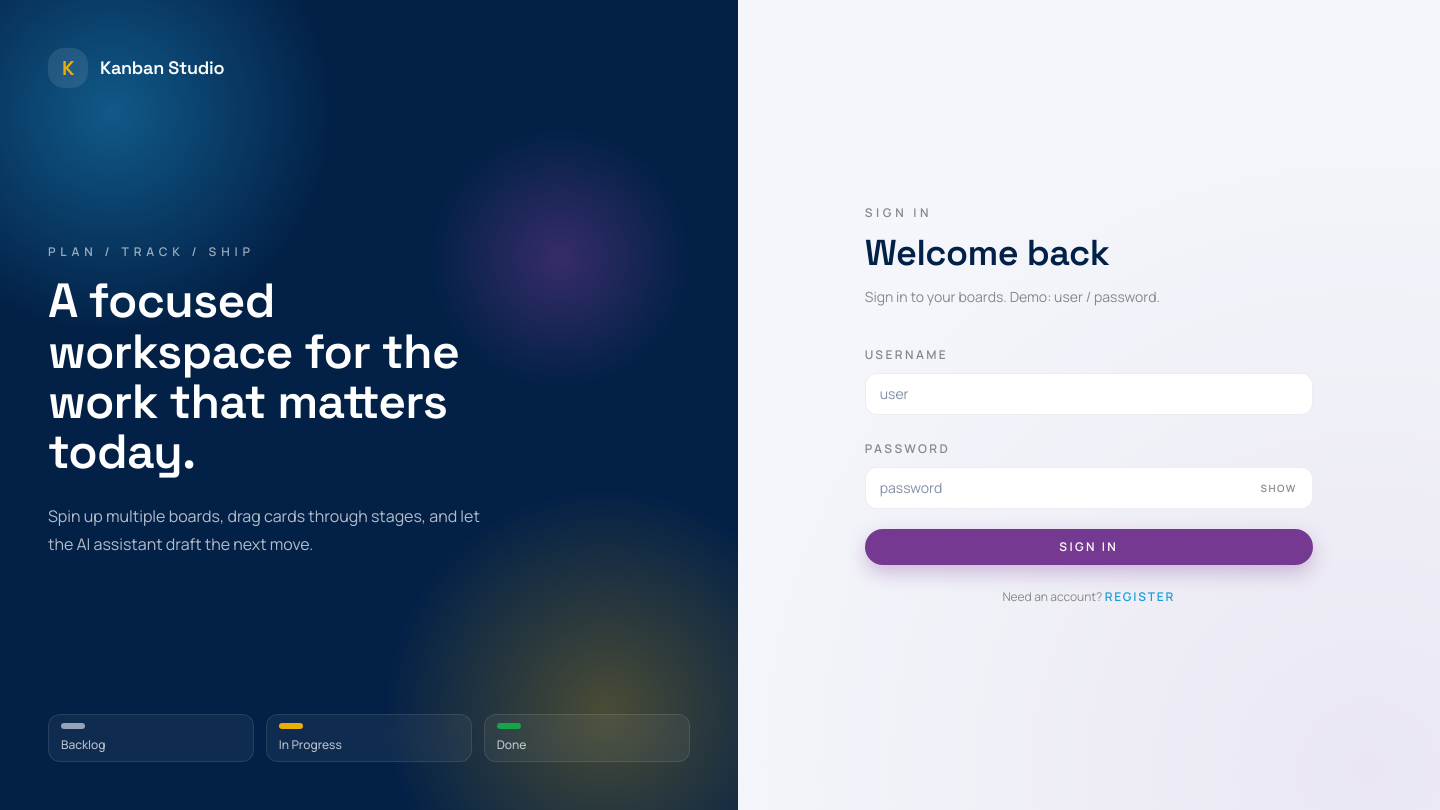
Test: AuthShell › rejects short passwords on register without hitting the network
The width and height of the screenshot is (1440, 810).
Click the button "Register" at (1140, 597), box x1=1105 y1=589 x2=1175 y2=605
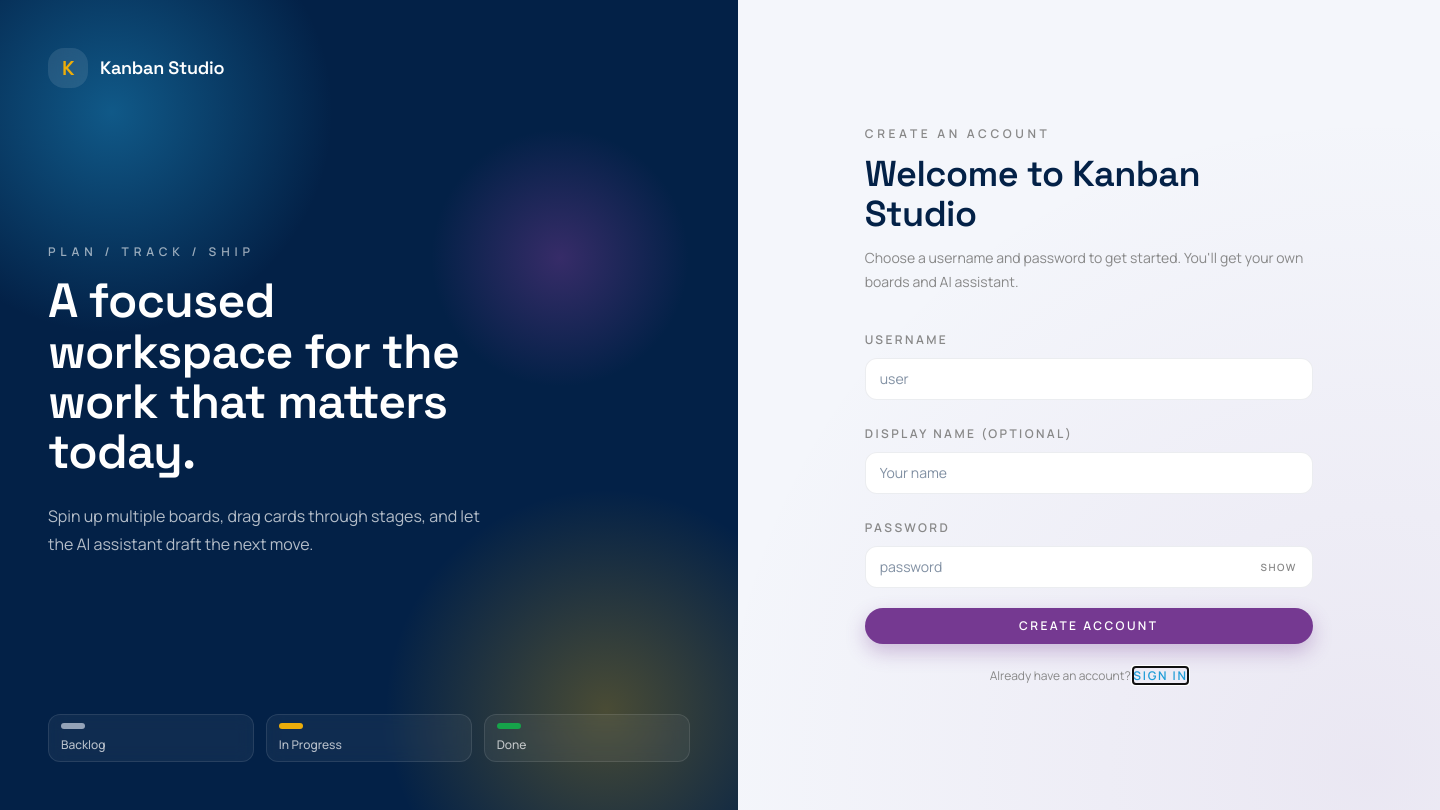
Type "newuser" into the field labelled "Username" at (1089, 379), box x1=865 y1=358 x2=1313 y2=400
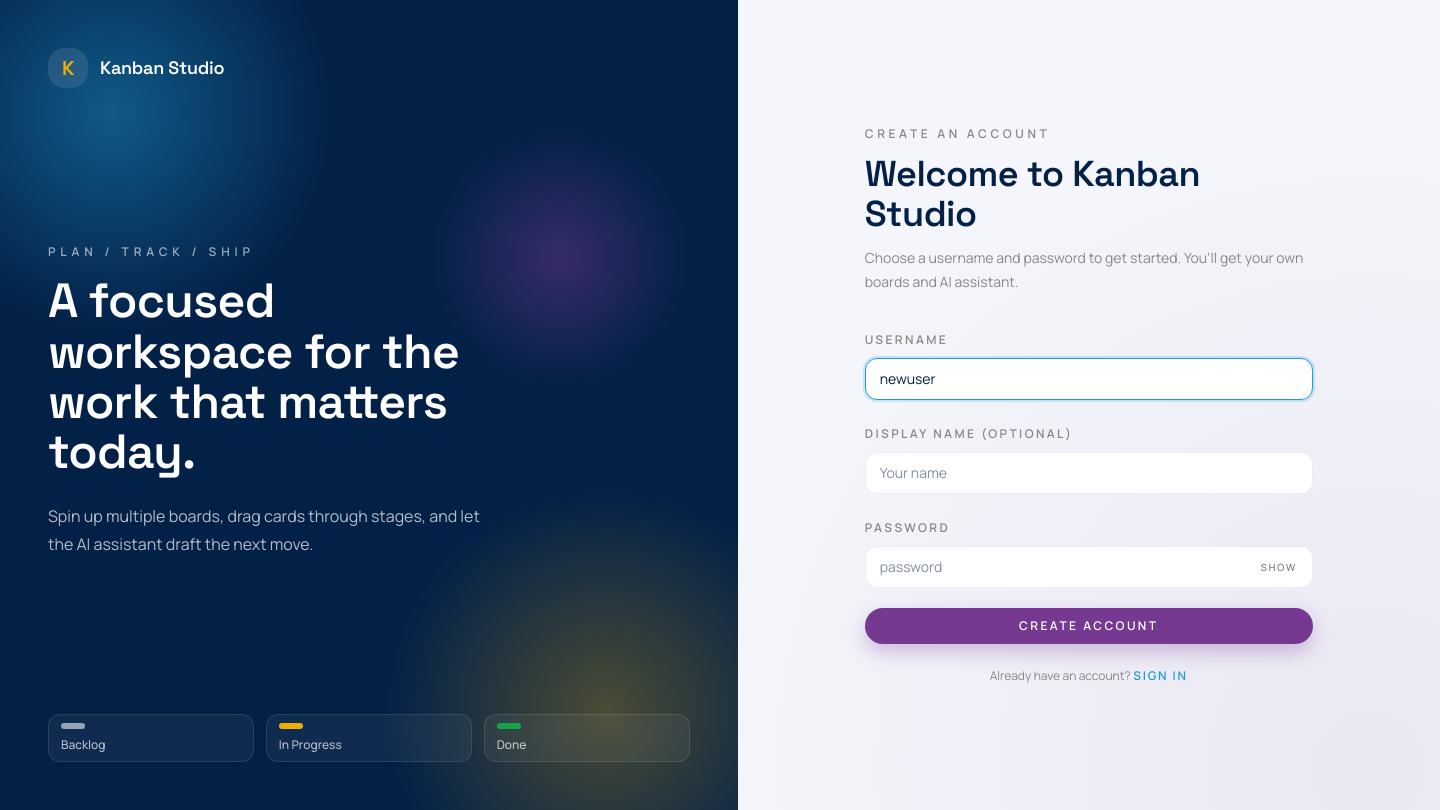
Type "abc" into the password field labelled "Password" at (1089, 567), box x1=865 y1=546 x2=1313 y2=588
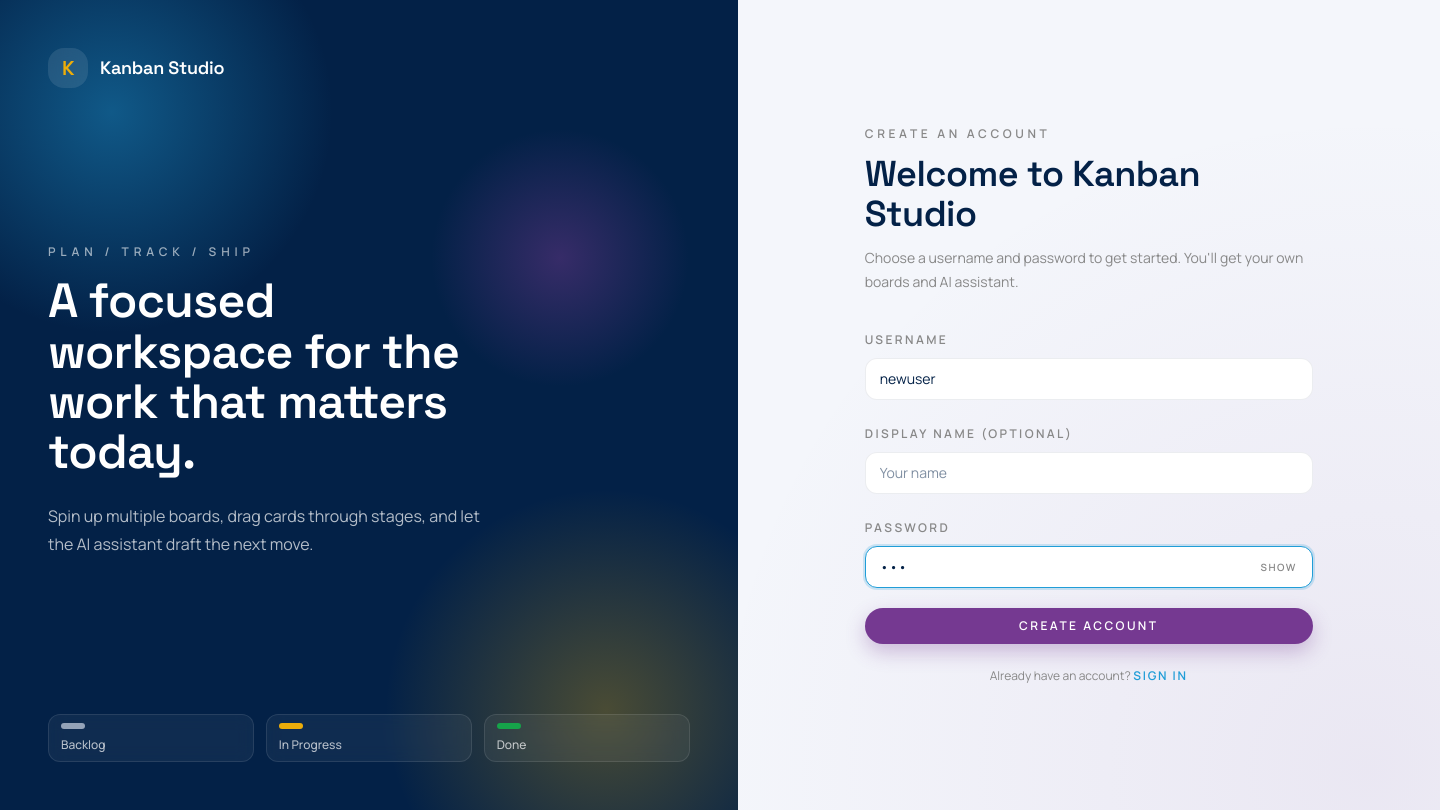
Click the button "Create account" at (1089, 626), box x1=865 y1=608 x2=1313 y2=644
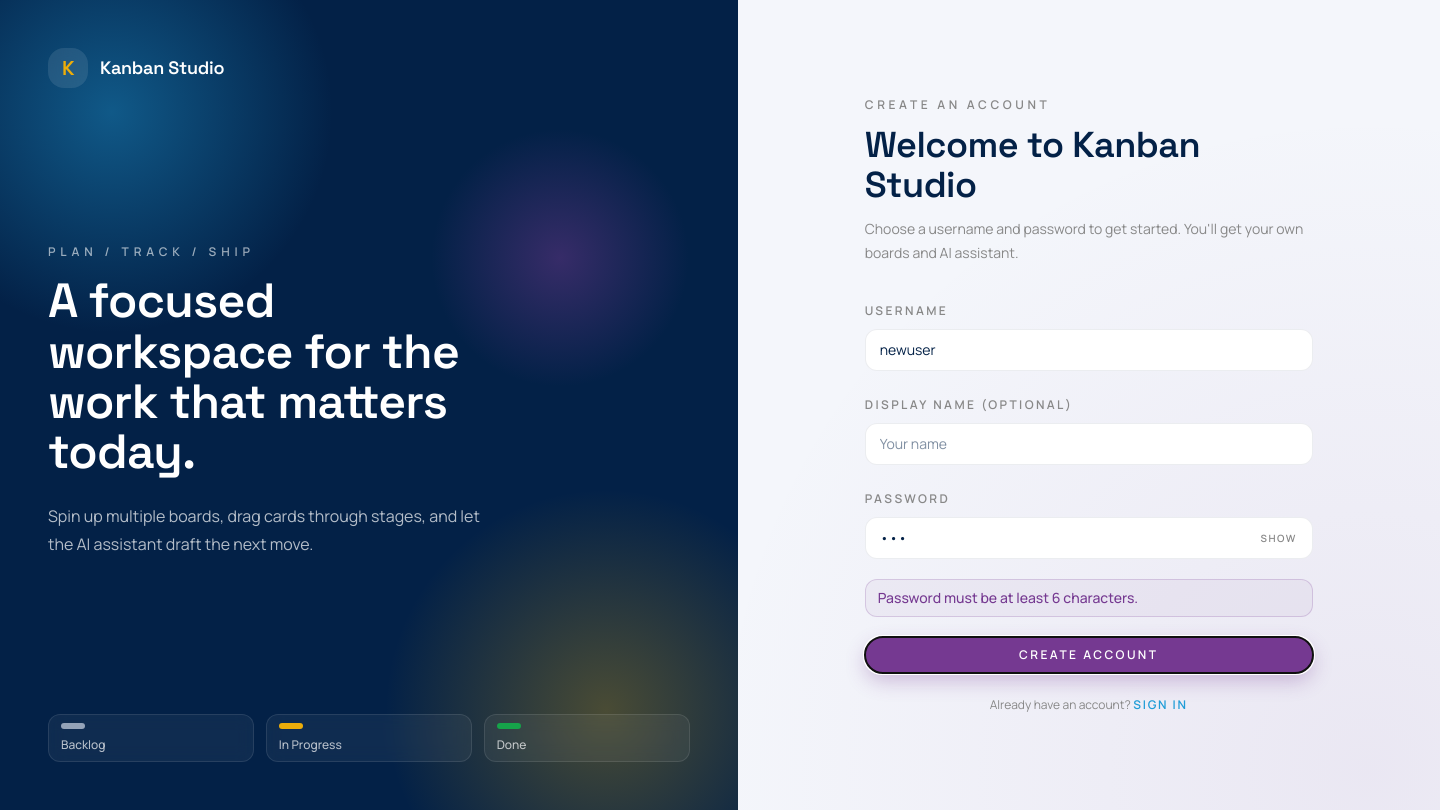
Check: the message shows "Password must be at least 6 characters", box x1=878 y1=588 x2=1138 y2=607
